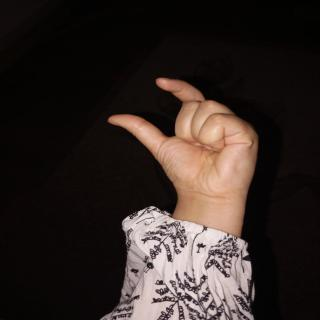DELL: (96, 71, 276, 200)
